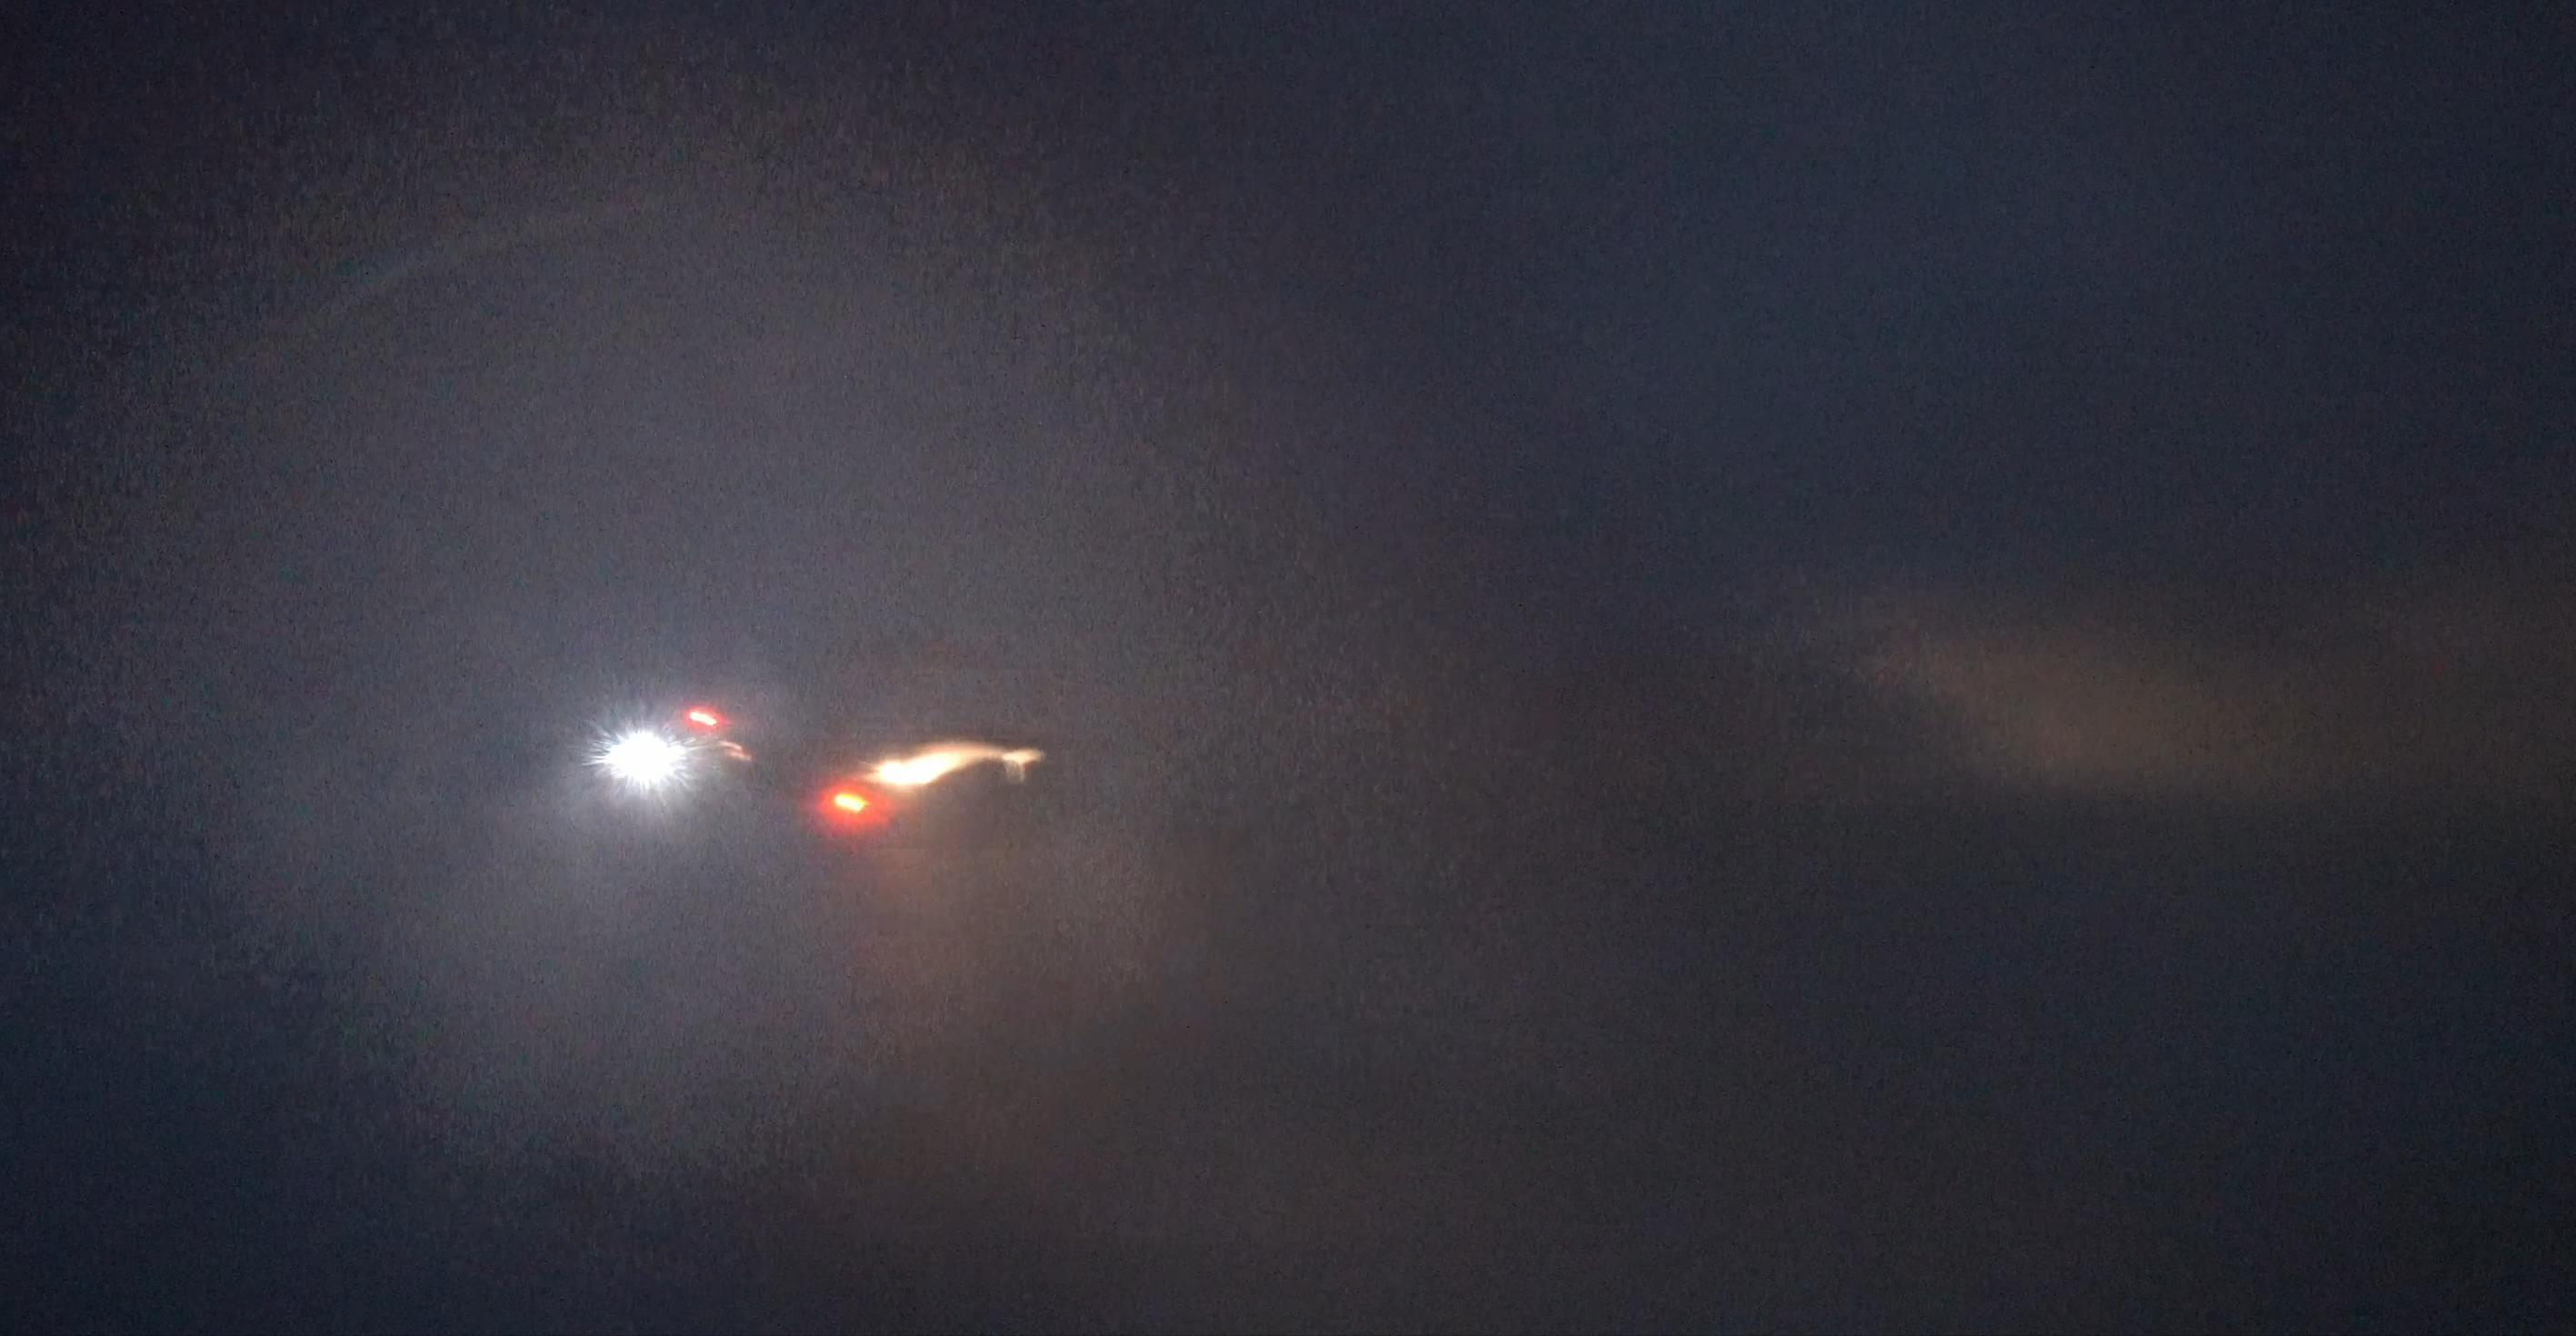Plane: (523, 663, 1056, 864)
